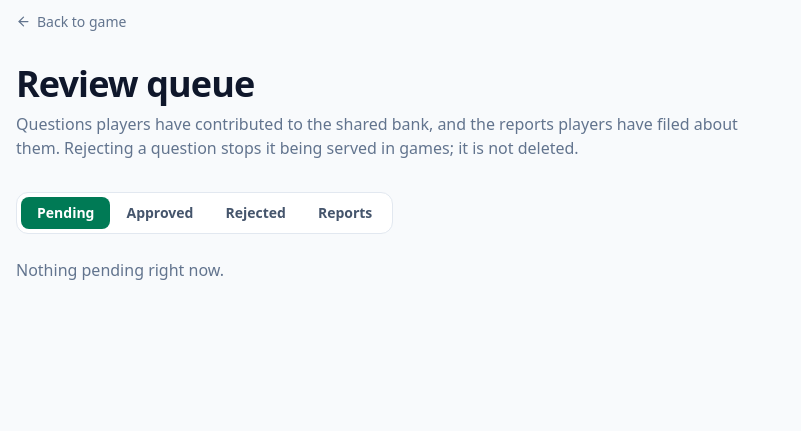
Test: ReviewQueueComponent reports tab, rendered › says the question is gone rather than rendering an empty card
Click the radio button with test id "review-tab" showing "Reports".
click(345, 212)  # box x1=302 y1=196 x2=388 y2=228
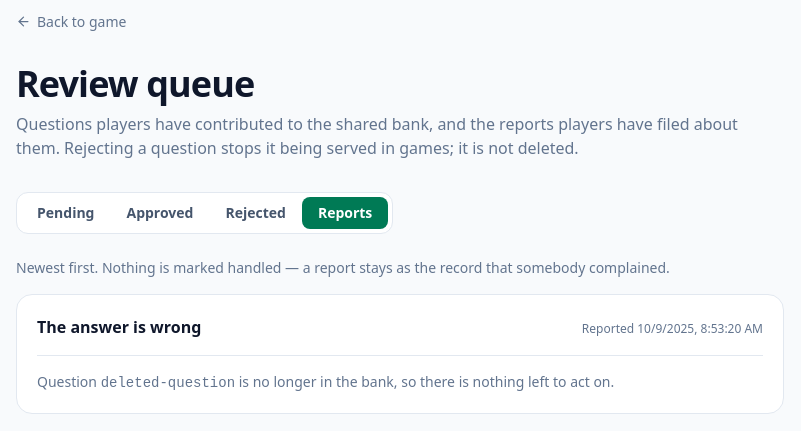
Expected: the element with test id "reported-question-missing" shows "deleted-question", x1=101 y1=374 x2=235 y2=390
